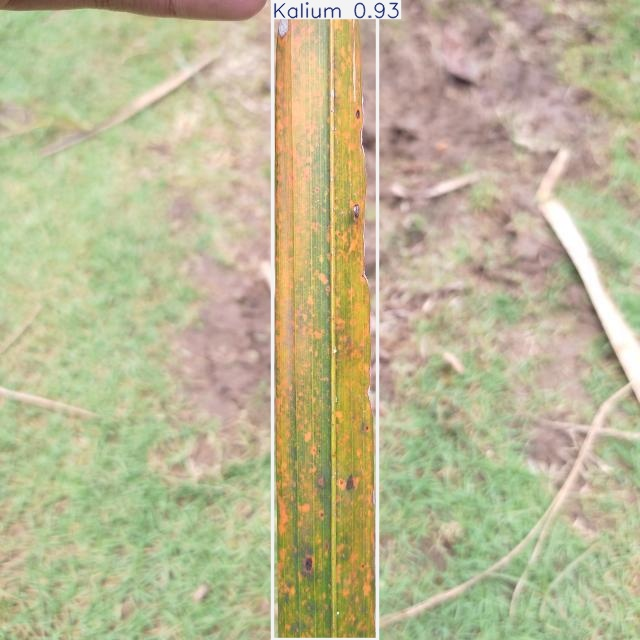Kalium: (273, 0, 377, 640)
